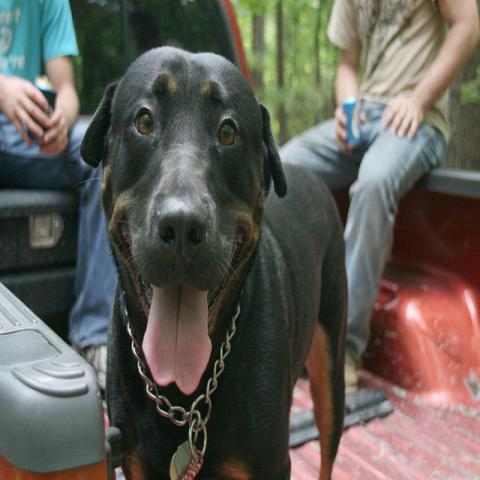truck: (70, 0, 480, 479)
